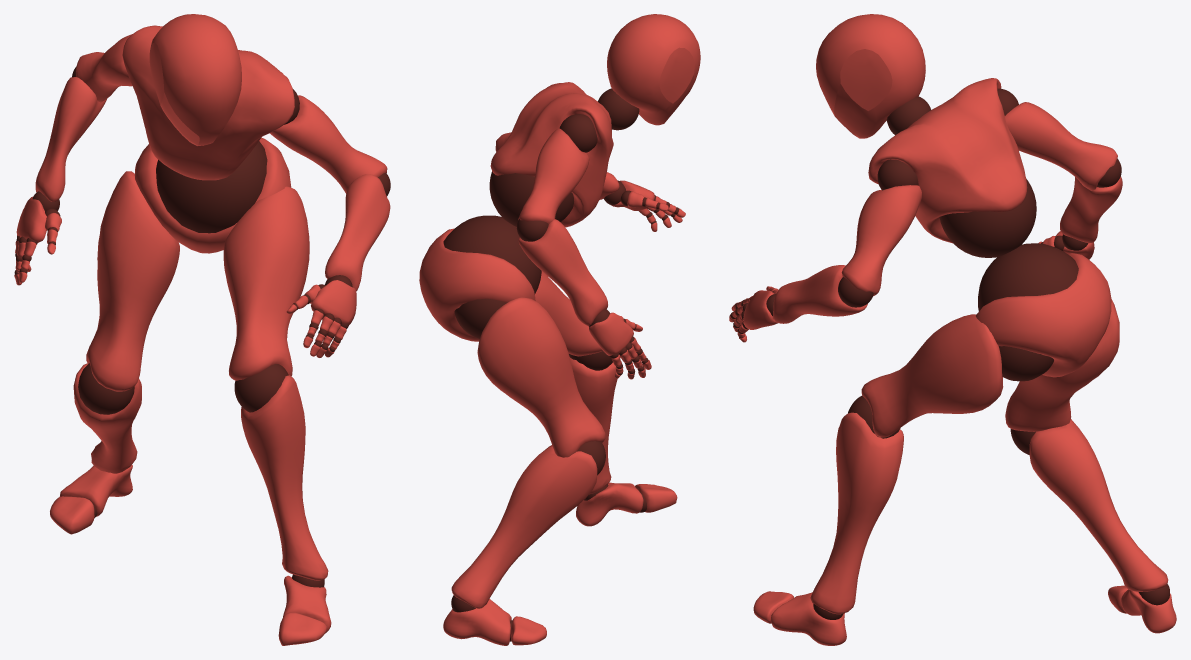
3 views of the same model, side by side, from view 1: azimuth 30°, elevation 25°; view 2: azimuth 150°, elevation 25°; view 3: azimuth 270°, elevation 25° (orthographic). The views are drawn at different scales.
Parts seen in each view (by area): view 1: Beta_Surface, Beta_Joints; view 2: Beta_Surface, Beta_Joints; view 3: Beta_Surface, Beta_Joints.
Part boxes in pixels (box(x1,y1,x2,y2)): Beta_Surface: box(14, 14, 390, 645); Beta_Joints: box(14, 66, 390, 587); Beta_Surface: box(419, 14, 700, 645); Beta_Joints: box(443, 88, 679, 641); Beta_Surface: box(729, 14, 1176, 645); Beta_Joints: box(730, 88, 1169, 619).
Size of the model in its own units: 0.6674 by 1.43 by 0.9927.
